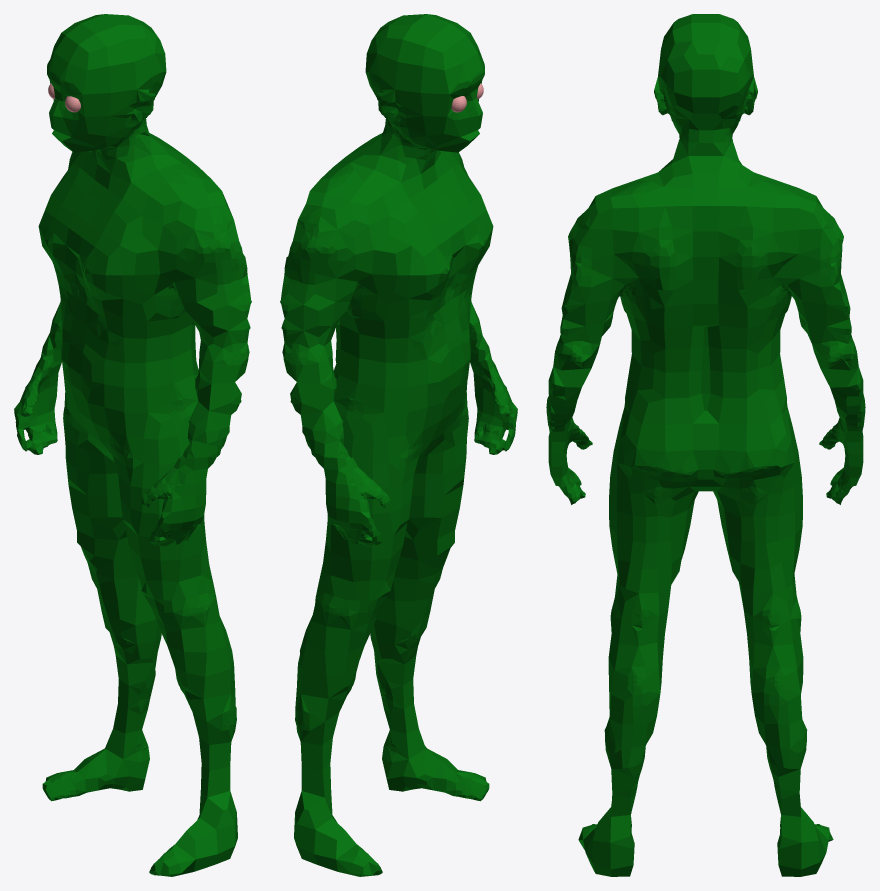
File: zombiee.fbx
The picture shows the model from 3 angles, left to right: view 1: azimuth 30°, elevation 25°; view 2: azimuth 150°, elevation 25°; view 3: azimuth 270°, elevation 25°; orthographic projection.
Parts seen in each view (by area): view 1: body.001; view 2: body.001; view 3: body.001.
Part boxes in pixels (left/top/right/bottom): body.001: left=14, top=14, right=251, bottom=876; body.001: left=280, top=14, right=517, bottom=876; body.001: left=546, top=14, right=865, bottom=876.
Size of the model in its own units: 25.4 by 136 by 48.11.
